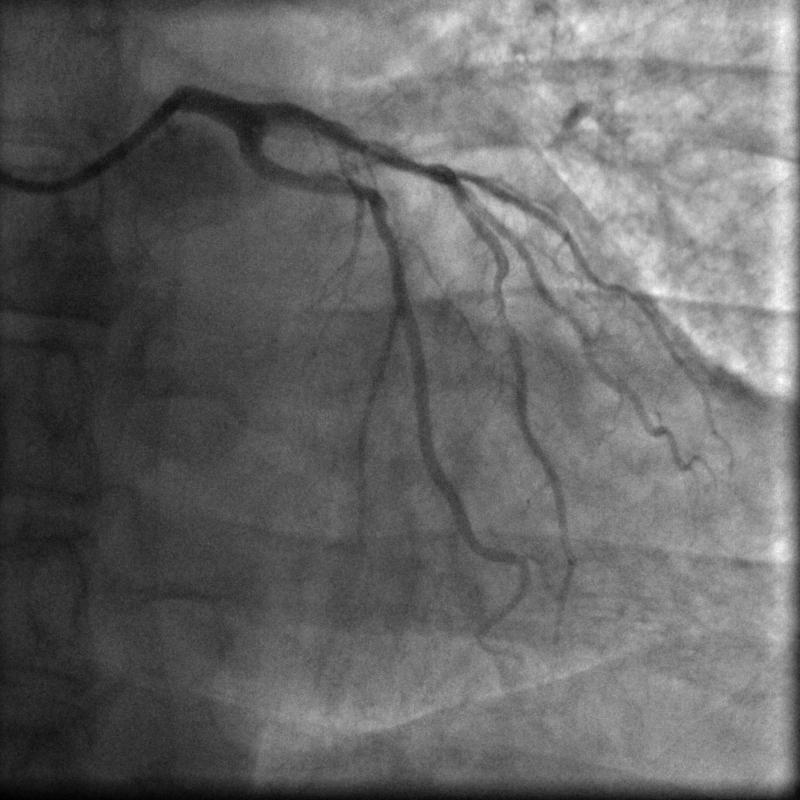Stenosis: (365, 140, 452, 180)
